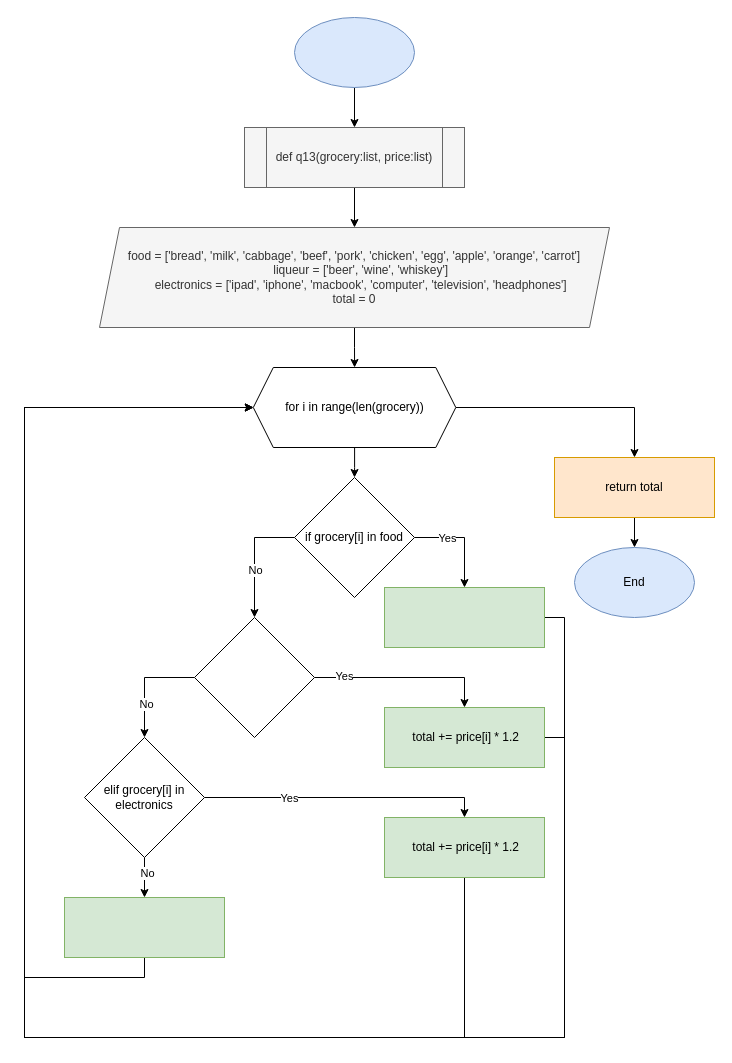
The diagram is 732 pixels wide and 1063 high, and some of its shapes have lost their labels. The shapes that lost their labels are listed below. From the top down, each one's box as (x1, y1, x2, y2) in pixels, then its label:
(294, 16, 414, 88): Start
(384, 586, 544, 648): total += price[i] * 1.1
(194, 616, 314, 738): elif grocery[i] in liqueur
(64, 896, 224, 958): print(f'{grocery[i]} is invalid')
